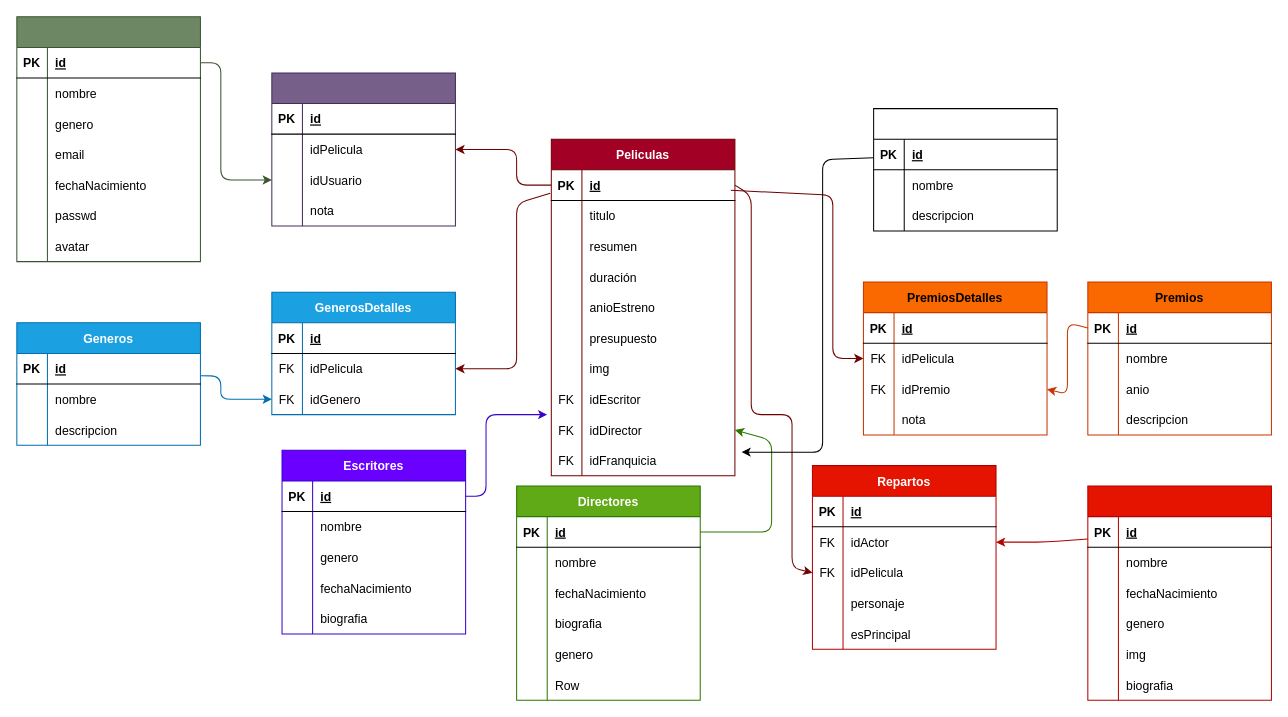
Some shapes in this 1288 by 717 pixel diagram are drawn without their labels. The shapes that lost their labels are listed below. From the top down, each one's box as (x1, y1, x2, y2) in pixels, then its label:
(16, 16, 200, 262): Usuario
(271, 72, 455, 226): Lista
(873, 108, 1057, 231): Franquicias
(1087, 485, 1271, 700): Actores
